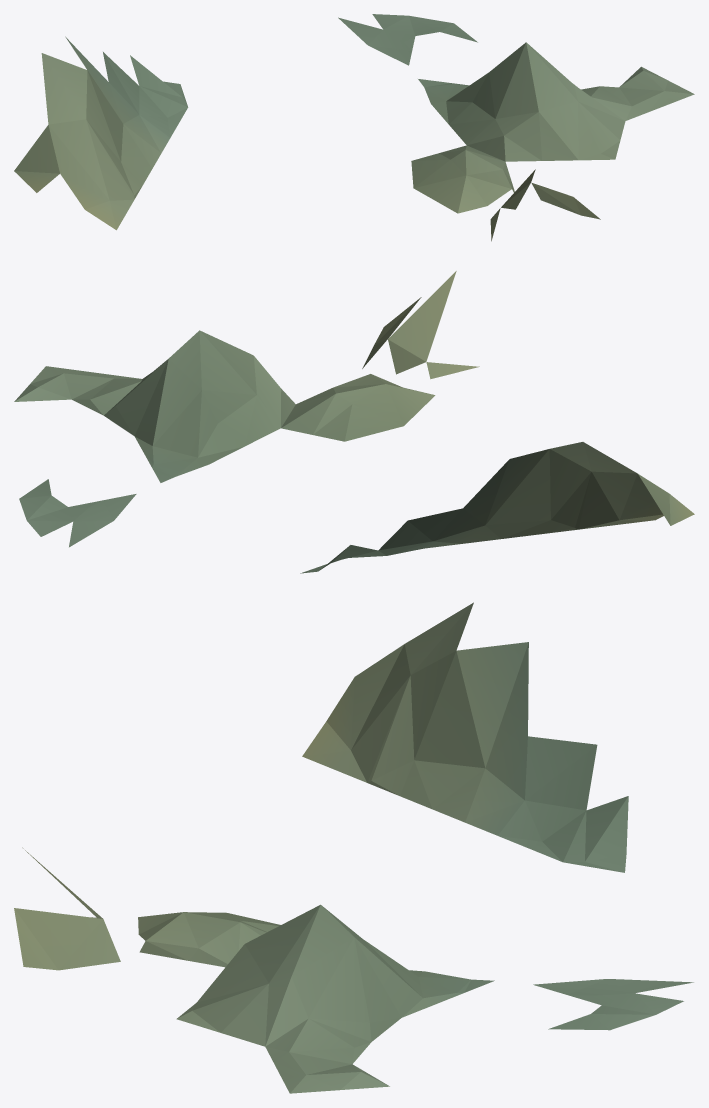
3 renders of one model, top to bottom at view 1: azimuth 30°, elevation 25°; view 2: azimuth 150°, elevation 25°; view 3: azimuth 270°, elevation 25°, orthographic. The views are drawn at different scales.
Parts seen in each view (by area): view 1: 北海道火山林; view 2: 北海道火山林; view 3: 北海道火山林.
Part boxes in pixels (bbox=[...]): 北海道火山林: bbox=[14, 14, 694, 241]; 北海道火山林: bbox=[14, 271, 694, 573]; 北海道火山林: bbox=[14, 602, 693, 1093].
Size of the model in its own units: 10.58 by 2.03 by 8.2.
